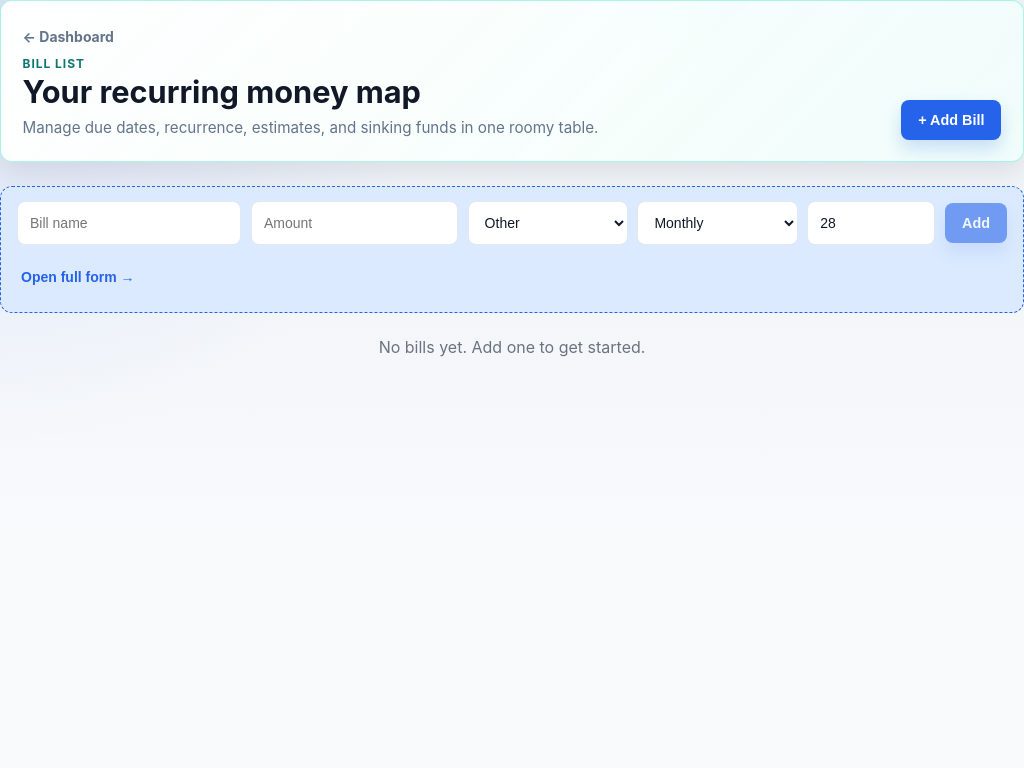
BillsPage › opens the add modal when the Add Bill button is clicked
The width and height of the screenshot is (1024, 768).
Expected: the text "No bills yet. Add one to get started." is shown, [379,337,645,357]
Step 1. Click the button "+ Add Bill" → (951, 120), box [901,100,1001,140]
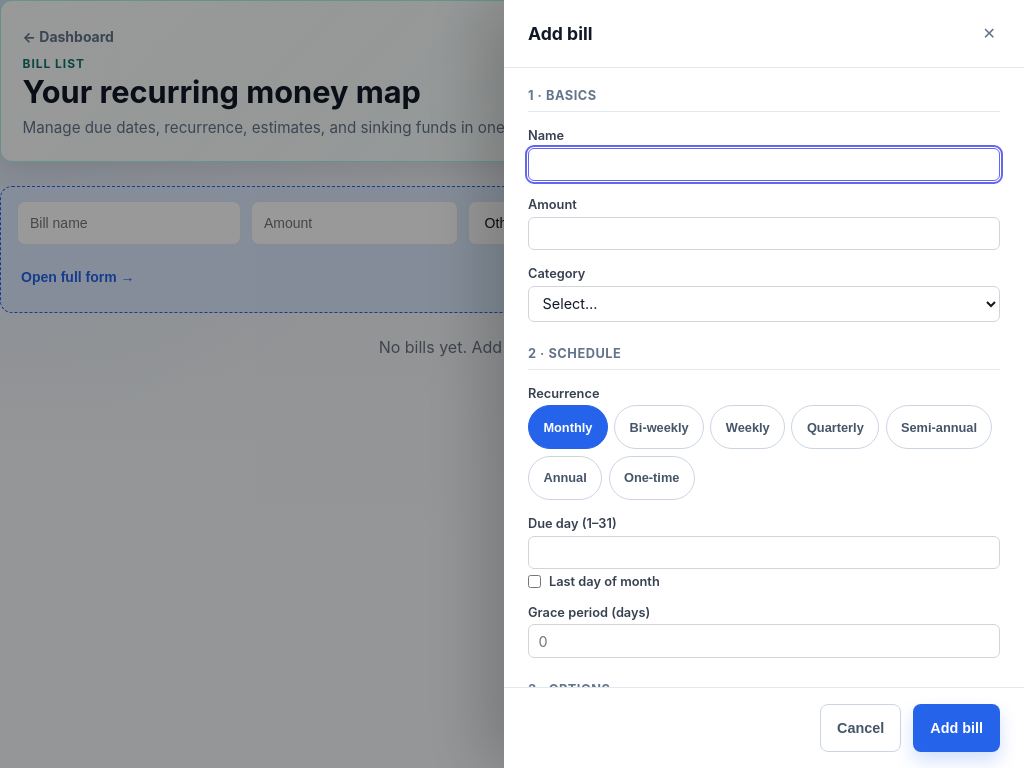
Expected: the heading "Add bill" is shown, [528,23,592,44]
